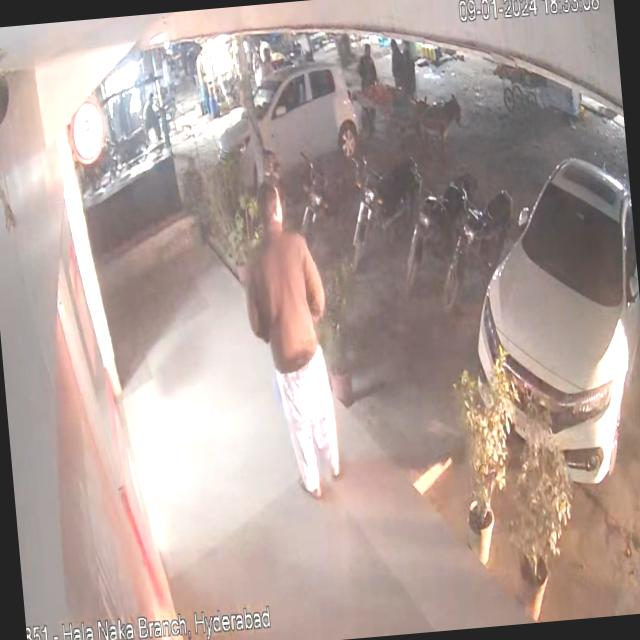Car: (456, 134, 640, 512), (210, 59, 380, 198)
Motorcycle: (346, 138, 430, 277), (430, 175, 504, 312), (398, 178, 446, 297)
